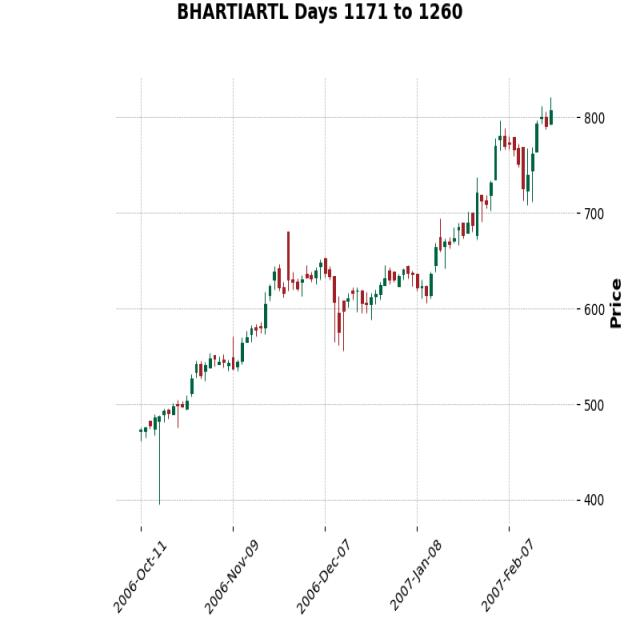Ascending Triangle: (464, 101, 556, 233)
